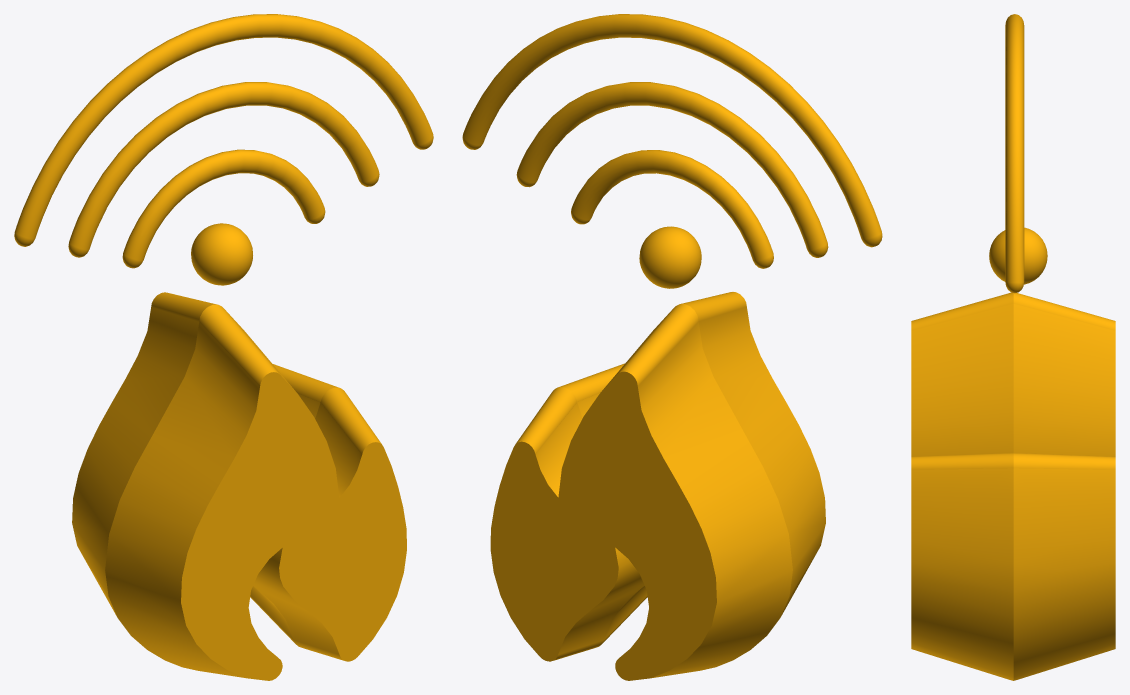
File: 3dthrow_detecter.fbx
3 renders of one model, left to right at view 1: azimuth 30°, elevation 25°; view 2: azimuth 150°, elevation 25°; view 3: azimuth 270°, elevation 25°, orthographic. The views are drawn at different scales.
Parts seen in each view (by area): view 1: 物件_1, 物件_2, 物件_3, 物件_4, 物件_5; view 2: 物件_1, 物件_2, 物件_3, 物件_4, 物件_5; view 3: 物件_1, 物件_2, 物件_5.
Part boxes in pixels (x1,y1,x2,y2): 物件_1: [72, 292, 406, 680]; 物件_2: [14, 14, 433, 246]; 物件_3: [68, 82, 379, 257]; 物件_4: [122, 149, 325, 268]; 物件_5: [191, 223, 252, 285]; 物件_1: [490, 292, 825, 680]; 物件_2: [462, 14, 882, 247]; 物件_3: [516, 82, 828, 257]; 物件_4: [571, 150, 773, 268]; 物件_5: [639, 226, 701, 288]; 物件_1: [911, 292, 1115, 680]; 物件_2: [1005, 14, 1024, 293]; 物件_5: [989, 227, 1047, 284].
Bounding box in the file's own units: 31.02 × 14.03 × 45.97.
